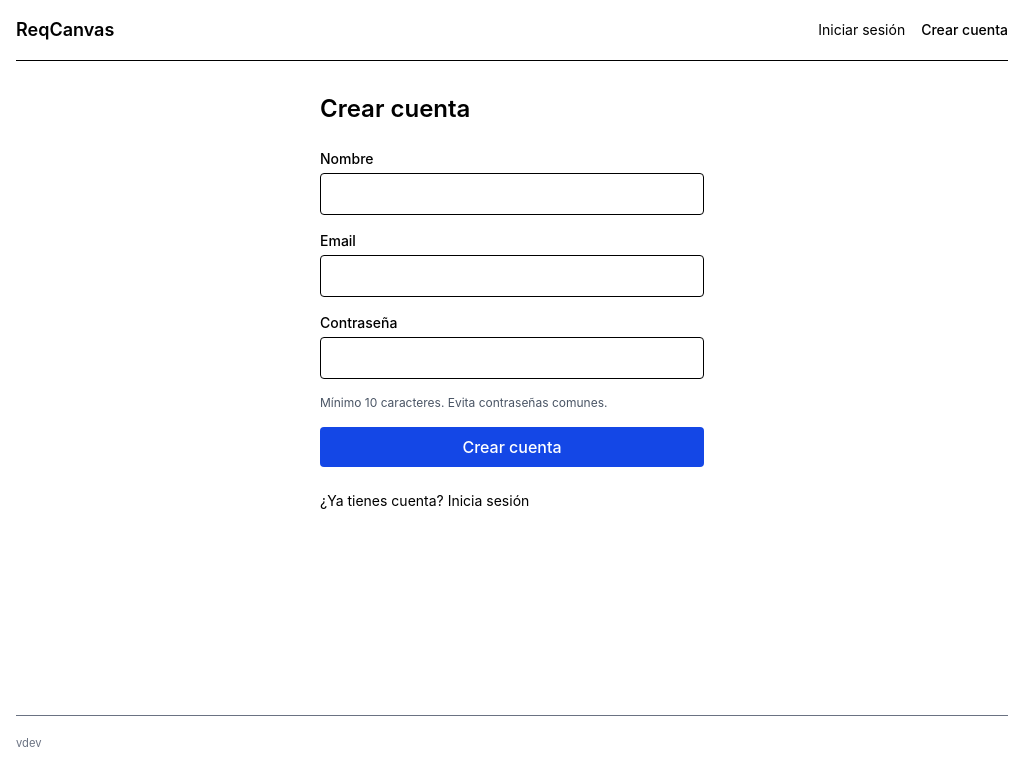
Test case: registro (US1 escenario 1) › crea la cuenta, inicia la sesión y lleva a "Mis proyectos" vacío
The width and height of the screenshot is (1024, 768).
In the field labelled "Nombre": (512, 194) [320,173,704,215], type "Ana Pérez"
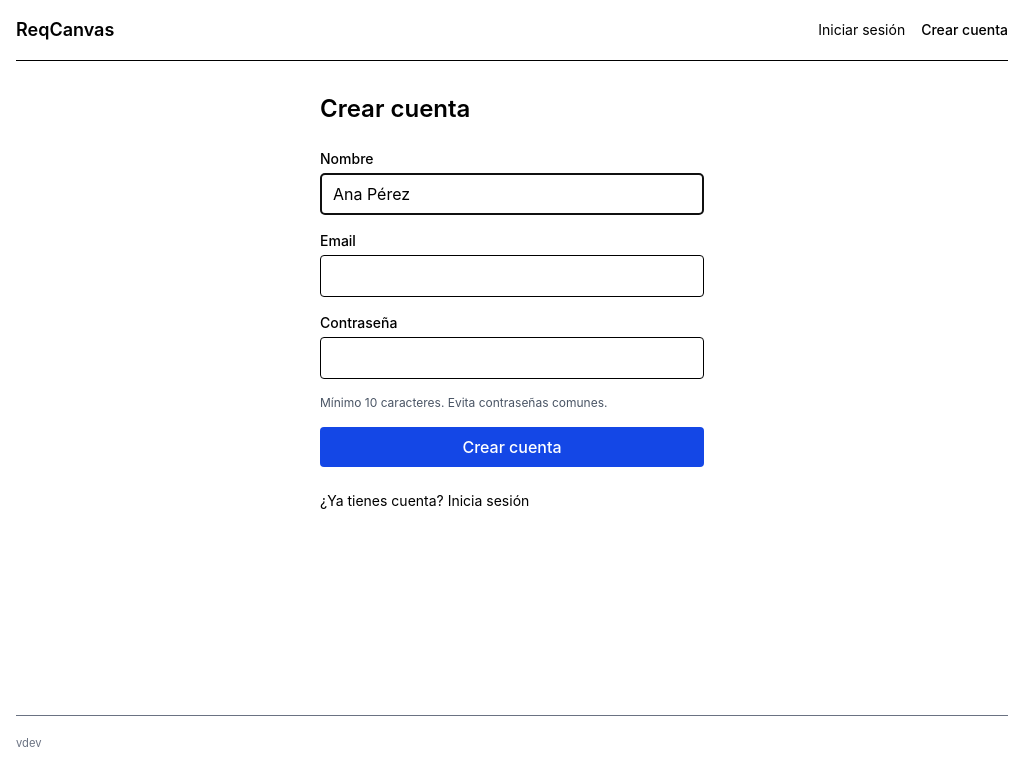
In the field labelled "Email": (512, 276) [320,255,704,297], type "ana@example.com"
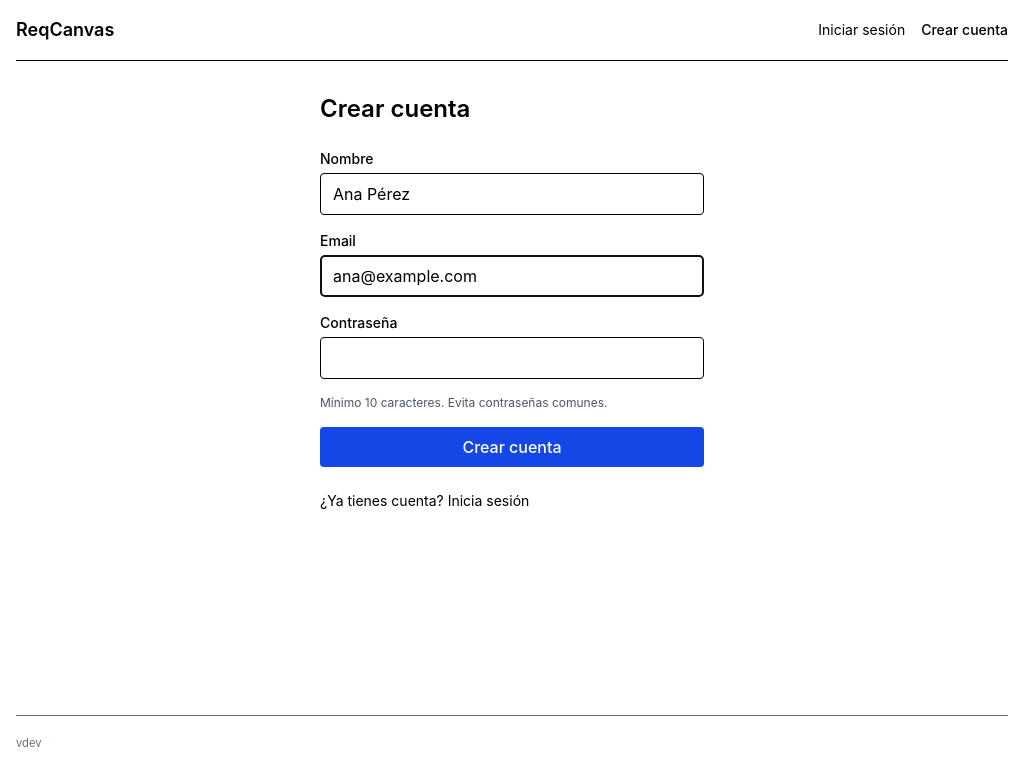
In the password field labelled "Contraseña": (512, 358) [320,337,704,379], type "una-frase-larga"
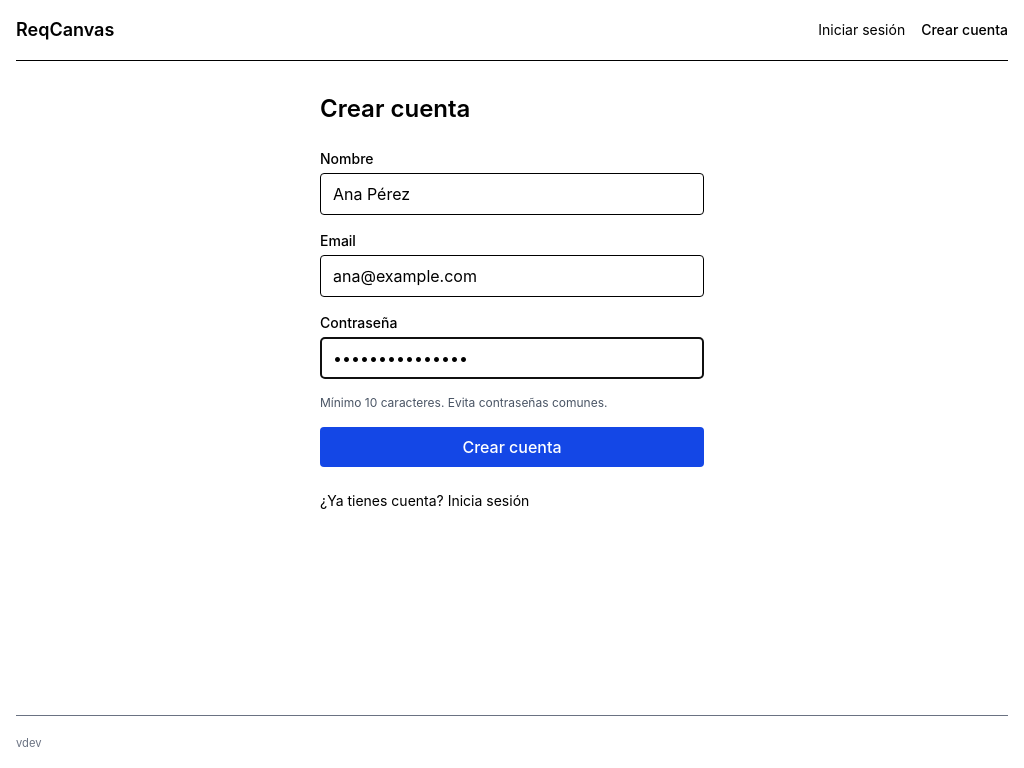
Click the button "Crear cuenta": (512, 447) [320,427,704,467]
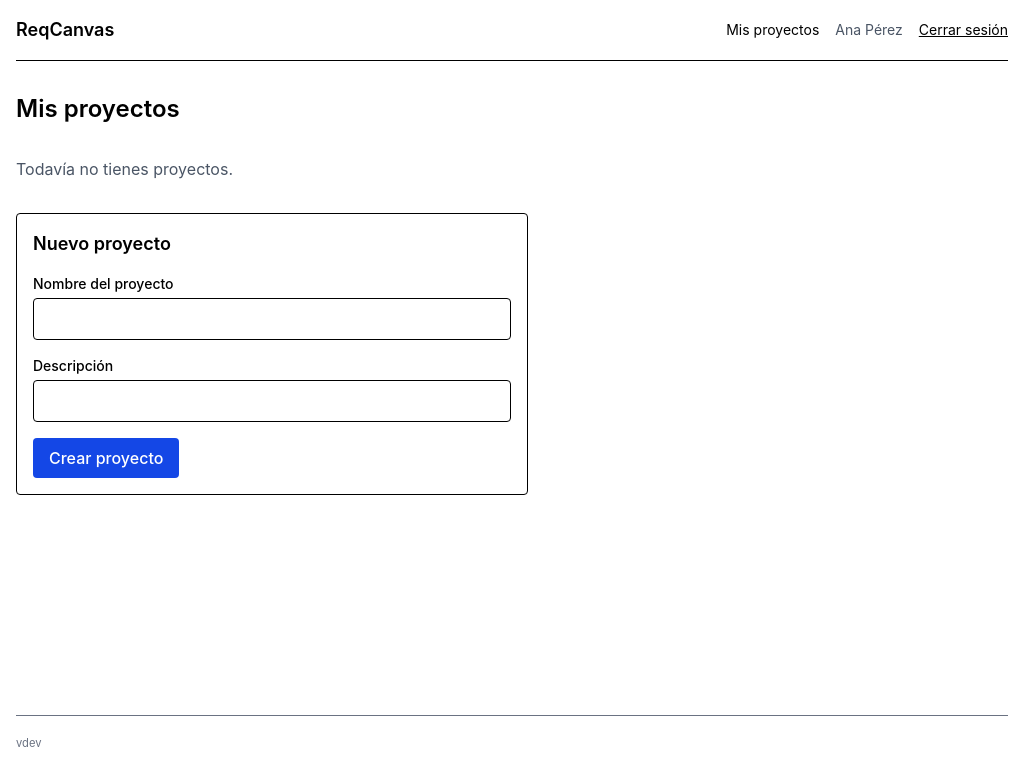
Expected: the heading "Mis proyectos" is shown, [16,94,180,123]
Expected: the text "Todavía no tienes proyectos." is shown, [16,159,233,179]
Expected: the header shows "Ana Pérez", [835,21,903,38]
